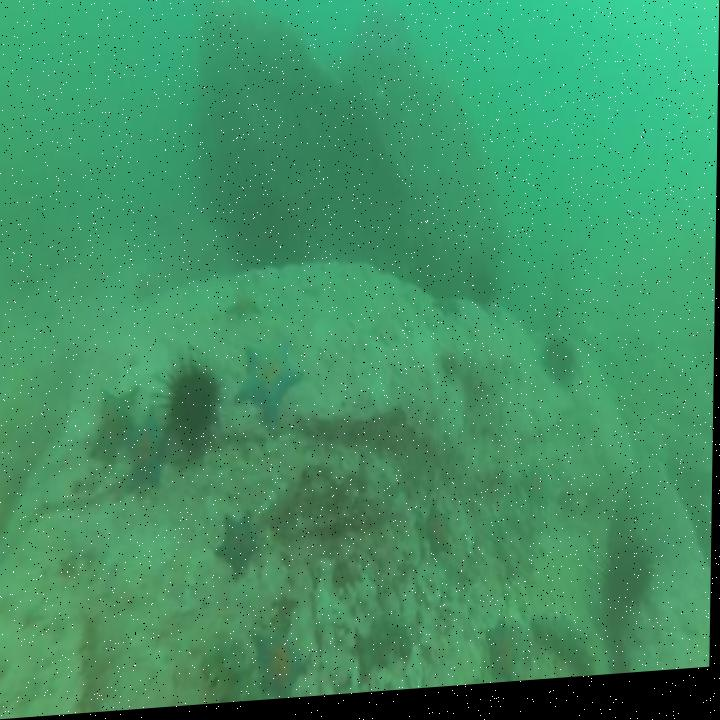echinus: (160, 354, 225, 467), (600, 532, 660, 633), (541, 332, 577, 400), (464, 266, 500, 319)
starfish: (238, 341, 304, 447), (246, 626, 314, 705), (88, 386, 139, 469), (126, 408, 168, 504), (216, 509, 265, 590), (417, 503, 459, 573), (488, 621, 527, 691), (224, 294, 266, 331)
